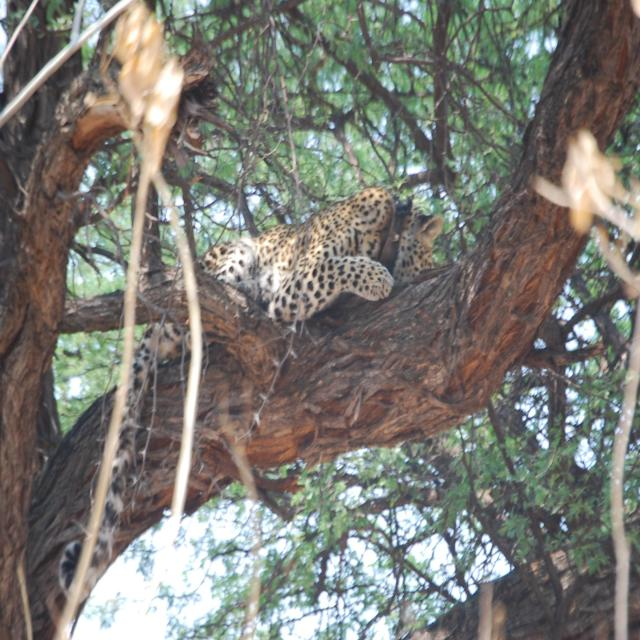Leopard: (50, 157, 427, 603)
